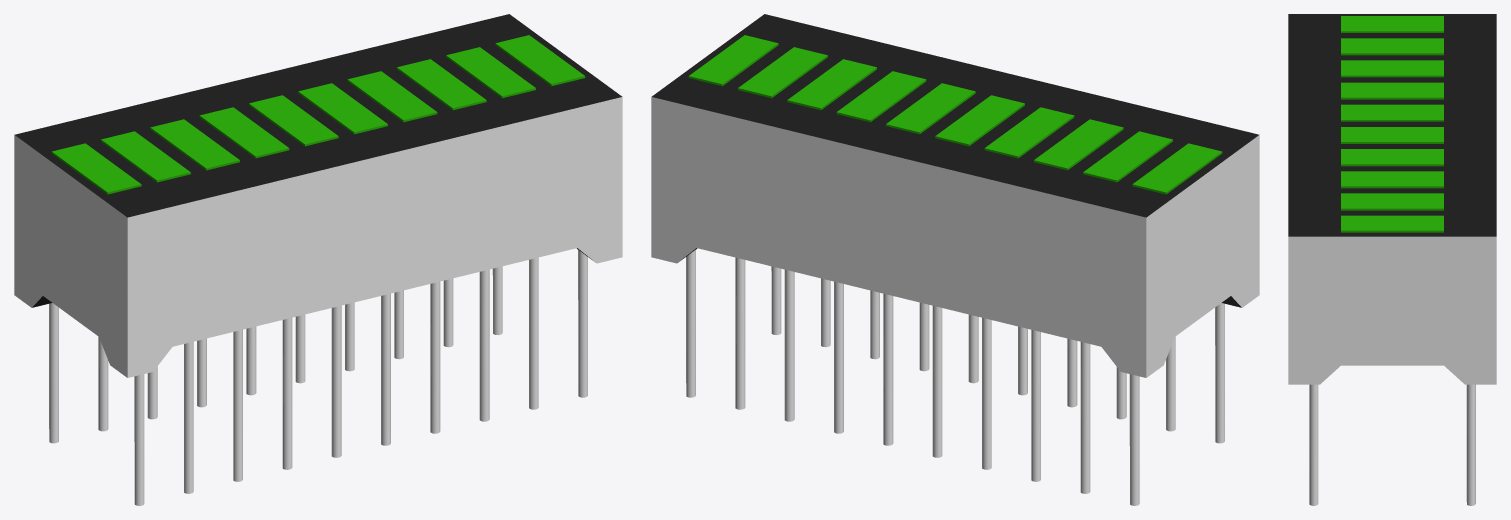
File: Display 10Seg Bar.obj
3 views of the same model, side by side, from view 1: azimuth 30°, elevation 25°; view 2: azimuth 150°, elevation 25°; view 3: azimuth 270°, elevation 25° (orthographic). The views are drawn at different scales.
Parts seen in each view (by area): view 1: Solid1; view 2: Solid1; view 3: Solid1.
Boxes of the visible parts, x1=… form: Solid1: x1=14, y1=14, x2=622, y2=505; Solid1: x1=651, y1=14, x2=1259, y2=505; Solid1: x1=1288, y1=14, x2=1496, y2=505.
Size of the model in its own units: 2.55 by 1.5 by 1.01.
